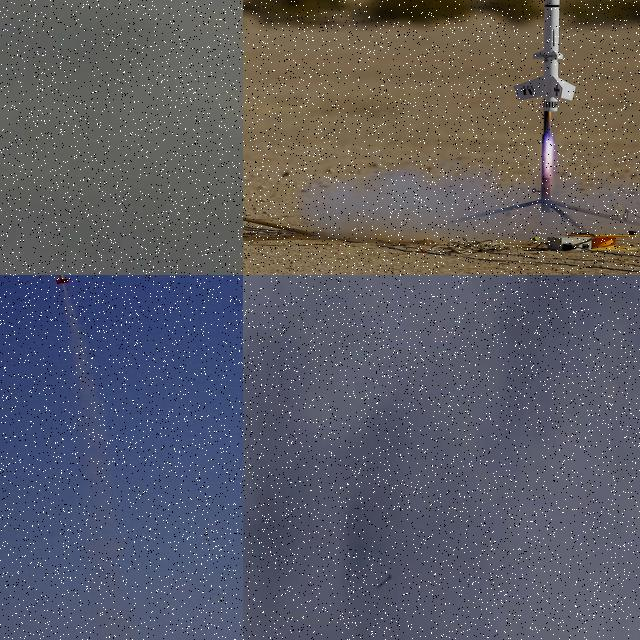Rocket: (511, 0, 579, 114), (376, 574, 392, 590)
